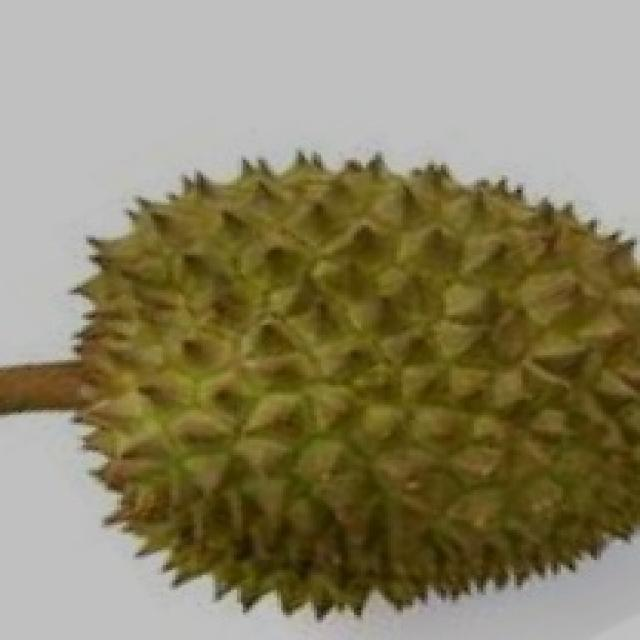fruit: (249, 223, 640, 635), (10, 222, 372, 638)
